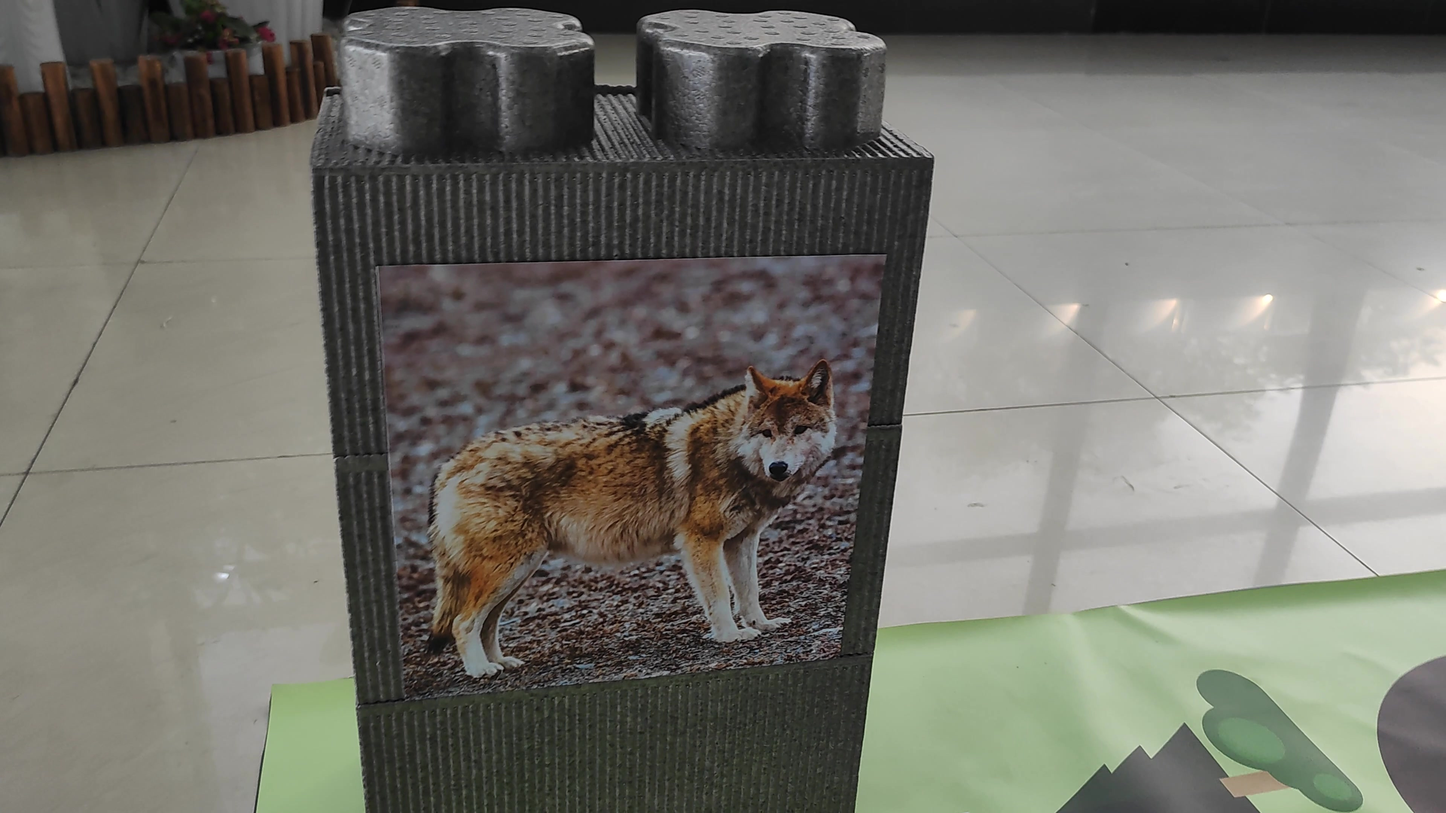wolf: (410, 326, 840, 678)
